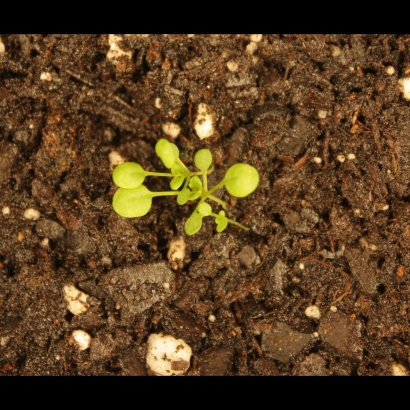leaf: (222, 153, 265, 201), (106, 181, 157, 221), (108, 160, 149, 192), (154, 136, 185, 169), (182, 212, 206, 240), (186, 173, 209, 202), (176, 186, 200, 212), (193, 147, 217, 172), (196, 200, 219, 223), (211, 211, 234, 234), (167, 167, 190, 190)
